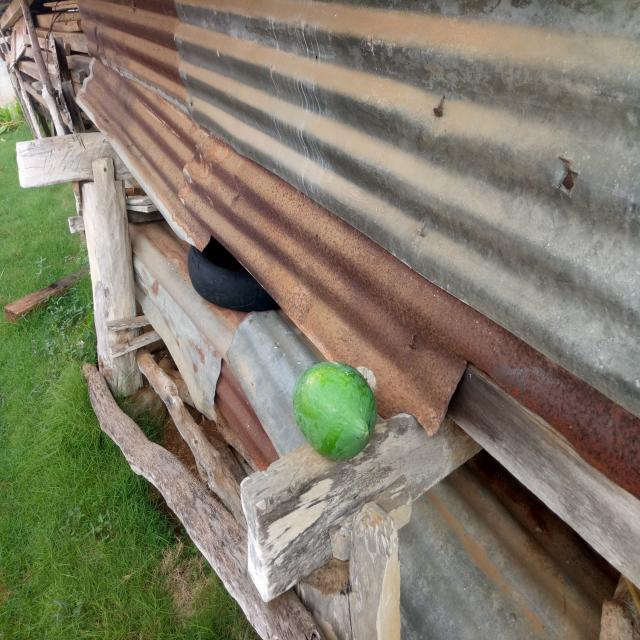Pepaya unrippen: (287, 361, 381, 460)
